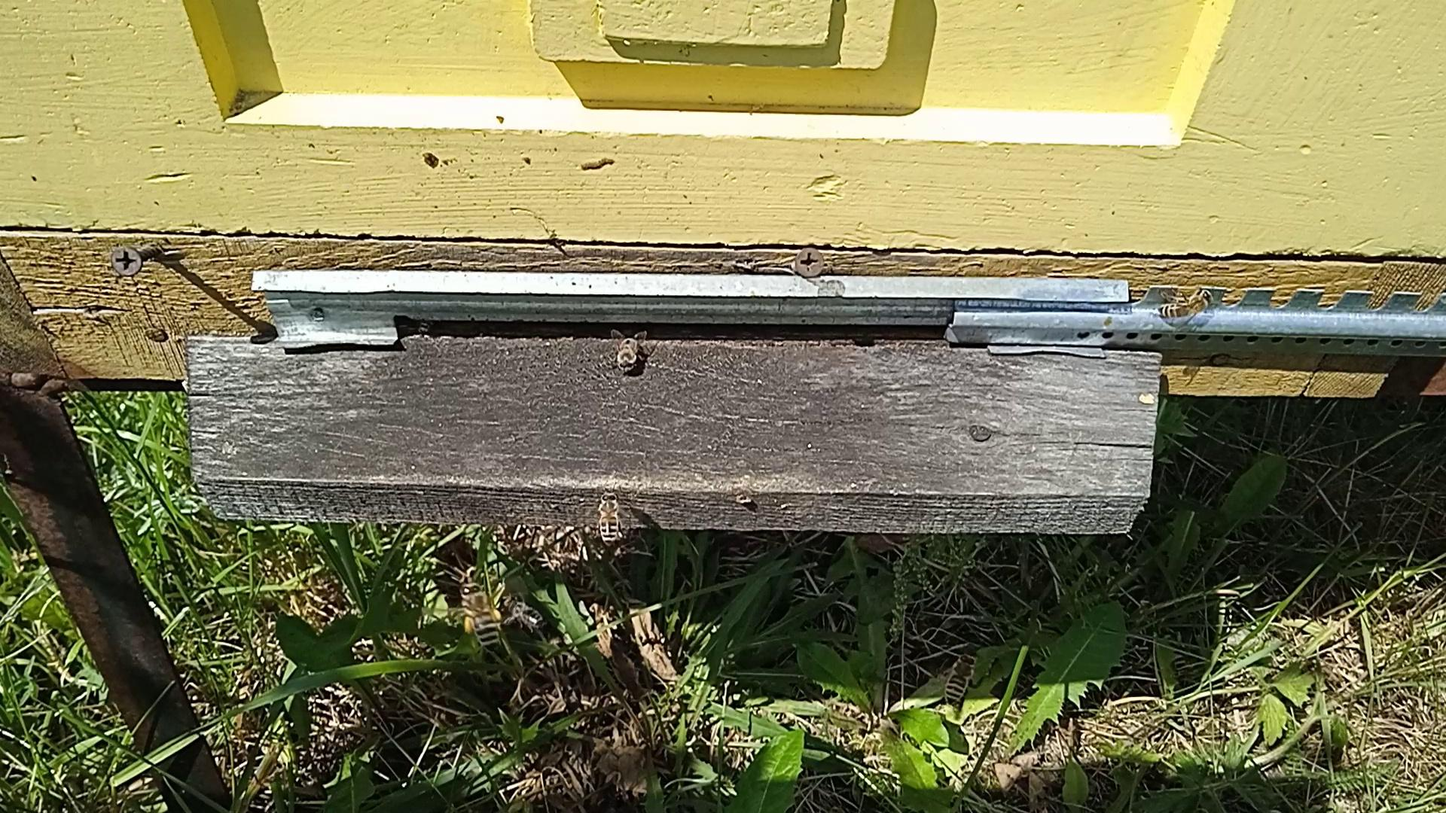worker-bee: (459, 581, 502, 650), (944, 649, 980, 705), (1158, 288, 1214, 324), (595, 490, 625, 547), (613, 332, 643, 374), (504, 599, 543, 629), (416, 321, 432, 336)
